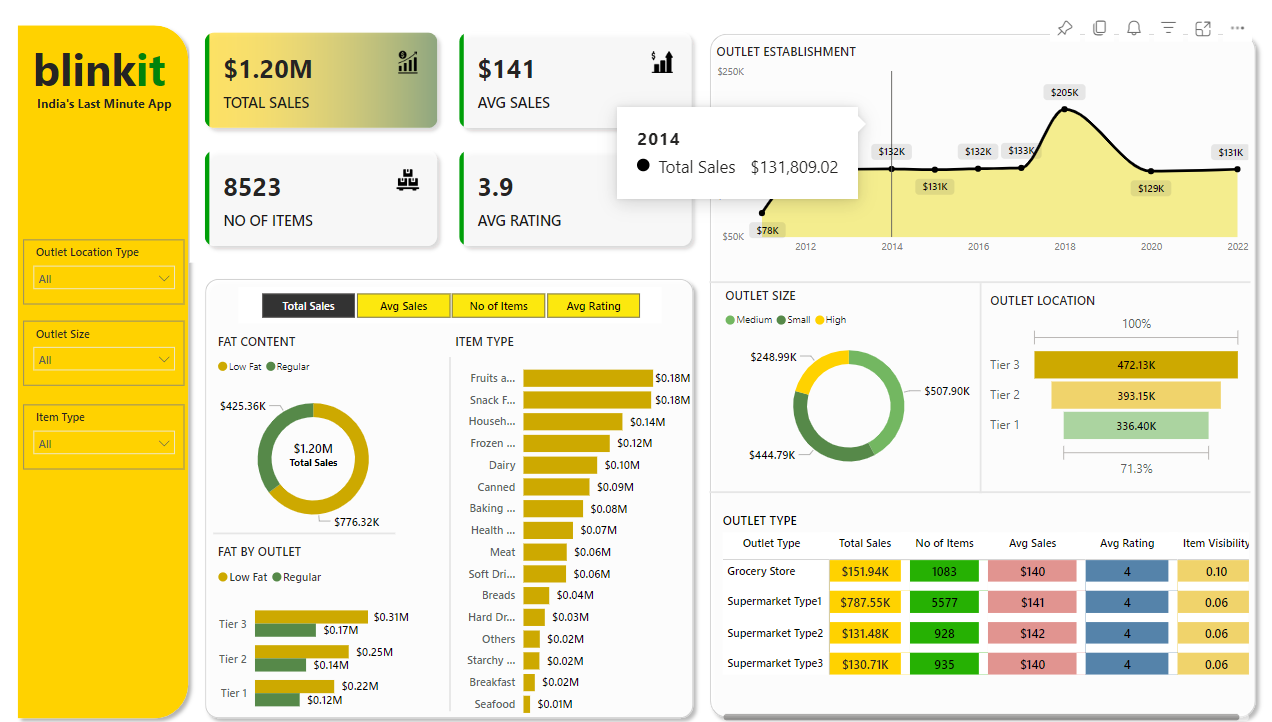

The dashboard page shown, as its layout file describes it:
{"tool":"powerbi","page":{"name":"Page 1","canvas":[1400,800],"ordinal":0},"visuals":[{"type":"shape","box":[13.4,21.4,205.1,778.8],"z":0},{"type":"textbox","box":[34.9,41.6,163.5,76.4],"z":1000},{"type":"textbox","box":[22.8,103.2,189,28.1],"z":2000},{"type":"cardVisual","fields":{"Data":["BlinkIT Grocery Data.Total Sales","BlinkIT Grocery Data.Avg Sales","BlinkIT Grocery Data.No of Items","BlinkIT Grocery Data.Avg Rating"]},"box":[211.8,21.4,569.7,269.4],"z":3000},{"type":"shape","box":[219.8,300.3,553.6,500],"z":4000},{"type":"donutChart","title":" FAT CONTENT","fields":{"Y":["BlinkIT Grocery Data.Total Sales"],"Category":["BlinkIT Grocery Data.Item Fat Content"]},"box":[237.3,368.6,219.8,230.6],"z":5000},{"type":"slicer","fields":{"Values":["Metrics.Metrics"]},"box":[264.1,317.7,465.1,40.2],"z":6000},{"type":"cardVisual","fields":{"Data":["BlinkIT Grocery Data.Total Sales"]},"box":[293.6,469.2,107.2,63],"z":7000},{"type":"clusteredBarChart","title":"FAT BY OUTLET","fields":{"Y":["BlinkIT Grocery Data.Total Sales"],"Category":["BlinkIT Grocery Data.Outlet Location Type"],"Series":["BlinkIT Grocery Data.Item Fat Content"]},"box":[237.3,599.2,219.8,201.1],"z":8000},{"type":"shape","box":[237.3,567,199.7,44.2],"z":9000},{"type":"shape","box":[490.6,395.4,12.1,388.7],"z":10000},{"type":"barChart","title":" ITEM TYPE","fields":{"Y":["BlinkIT Grocery Data.Total Sales"],"Category":["BlinkIT Grocery Data.Item Type"]},"box":[497.3,368.6,268.1,431.6],"z":11000},{"type":"shape","box":[773.5,32.2,616.6,768.1],"z":12000},{"type":"lineChart","title":"OUTLET ESTABLISHMENT","fields":{"Y":["BlinkIT Grocery Data.Total Sales"],"Category":["BlinkIT Grocery Data.Outlet Establishment Year"]},"box":[784.2,50.9,593.8,239.9],"z":13000},{"type":"shape","box":[781.5,290.9,593.8,44.2],"z":14000},{"type":"donutChart","title":"OUTLET SIZE","fields":{"Y":["BlinkIT Grocery Data.Total Sales"],"Category":["BlinkIT Grocery Data.Outlet Size"]},"box":[793.6,317.7,281.5,215.8],"z":15000},{"type":"shape","box":[1073.7,313.7,10.7,230.6],"z":16000},{"type":"funnel","title":"OUTLET LOCATION","fields":{"Y":["Sum(BlinkIT Grocery Data.Sales)"],"Category":["BlinkIT Grocery Data.Outlet Location Type"]},"box":[1084.5,323.1,286.9,209.1],"z":17000},{"type":"shape","box":[781.5,521.5,593.8,44.2],"z":18000},{"type":"pivotTable","title":"OUTLET TYPE","fields":{"Rows":["BlinkIT Grocery Data.Outlet Type"],"Values":["BlinkIT Grocery Data.Total Sales","BlinkIT Grocery Data.No of Items","BlinkIT Grocery Data.Avg Sales","BlinkIT Grocery Data.Avg Rating","Avg(BlinkIT Grocery Data.Item Visibility)"]},"box":[790.9,565.7,587.1,234.6],"z":19000},{"type":"slicer","fields":{"Values":["BlinkIT Grocery Data.Outlet Location Type"]},"box":[28.1,266.8,176.9,71],"z":20000},{"type":"slicer","fields":{"Values":["BlinkIT Grocery Data.Outlet Size"]},"box":[28.1,355.2,176.9,71],"z":21000},{"type":"slicer","fields":{"Values":["BlinkIT Grocery Data.Item Type"]},"box":[28.1,447.7,176.9,71],"z":22000}]}

Visuals, with their boxes on the page's 1400x800 design canvas (x1, y1, x2, y2). These are canvas units, not pixel positions in the 1272x722 screenshot, which may show the page scaled, cropped or inside an application window:
shape: [left=13, top=21, right=218, bottom=800]
textbox: [left=35, top=42, right=198, bottom=118]
textbox: [left=23, top=103, right=212, bottom=131]
cardVisual - BlinkIT Grocery Data.Total Sales x BlinkIT Grocery Data.Avg Sales: [left=212, top=21, right=782, bottom=291]
shape: [left=220, top=300, right=773, bottom=800]
" FAT CONTENT" donutChart: [left=237, top=369, right=457, bottom=599]
slicer - Metrics.Metrics: [left=264, top=318, right=729, bottom=358]
cardVisual - BlinkIT Grocery Data.Total Sales: [left=294, top=469, right=401, bottom=532]
"FAT BY OUTLET" clusteredBarChart: [left=237, top=599, right=457, bottom=800]
shape: [left=237, top=567, right=437, bottom=611]
shape: [left=491, top=395, right=503, bottom=784]
" ITEM TYPE" barChart: [left=497, top=369, right=765, bottom=800]
shape: [left=774, top=32, right=1390, bottom=800]
"OUTLET ESTABLISHMENT" lineChart: [left=784, top=51, right=1378, bottom=291]
shape: [left=782, top=291, right=1375, bottom=335]
"OUTLET SIZE" donutChart: [left=794, top=318, right=1075, bottom=534]
shape: [left=1074, top=314, right=1084, bottom=544]
"OUTLET LOCATION" funnel: [left=1084, top=323, right=1371, bottom=532]
shape: [left=782, top=522, right=1375, bottom=566]
"OUTLET TYPE" pivotTable: [left=791, top=566, right=1378, bottom=800]
slicer - BlinkIT Grocery Data.Outlet Location Type: [left=28, top=267, right=205, bottom=338]
slicer - BlinkIT Grocery Data.Outlet Size: [left=28, top=355, right=205, bottom=426]
slicer - BlinkIT Grocery Data.Item Type: [left=28, top=448, right=205, bottom=519]
